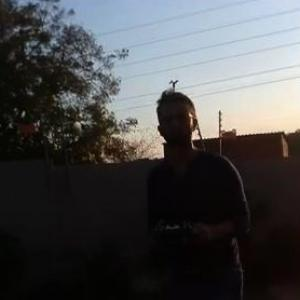follow: (135, 85, 257, 299)
